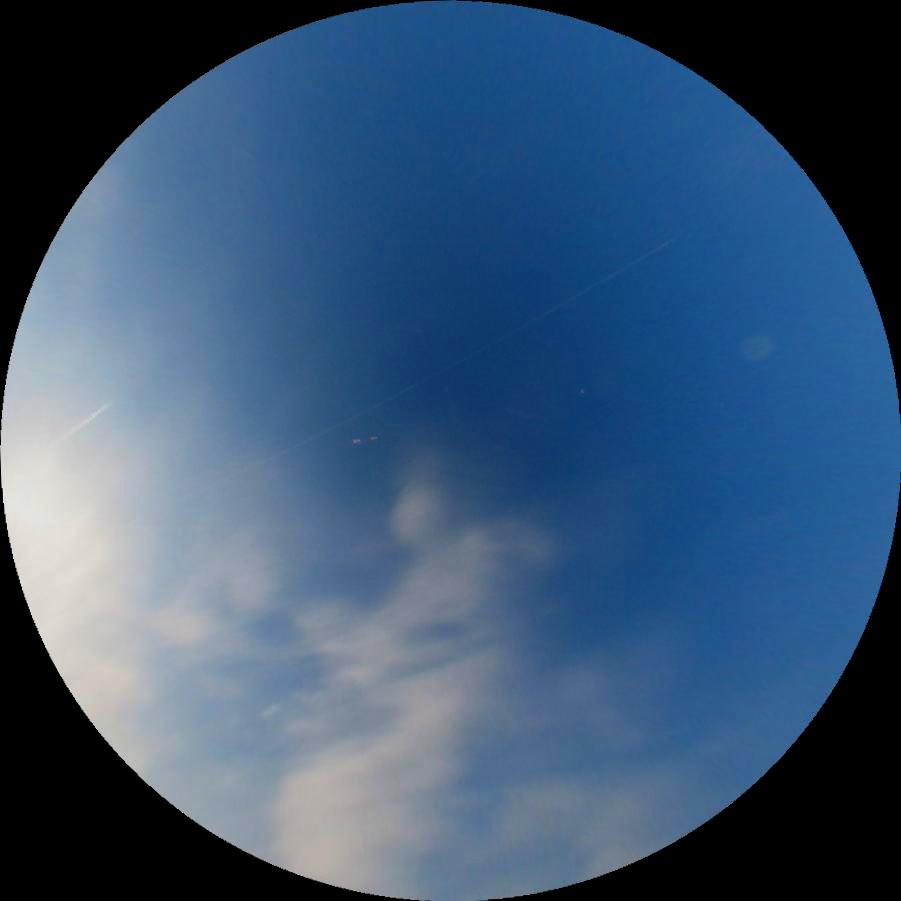contrail young: (260, 240, 672, 469), (59, 401, 111, 442)
